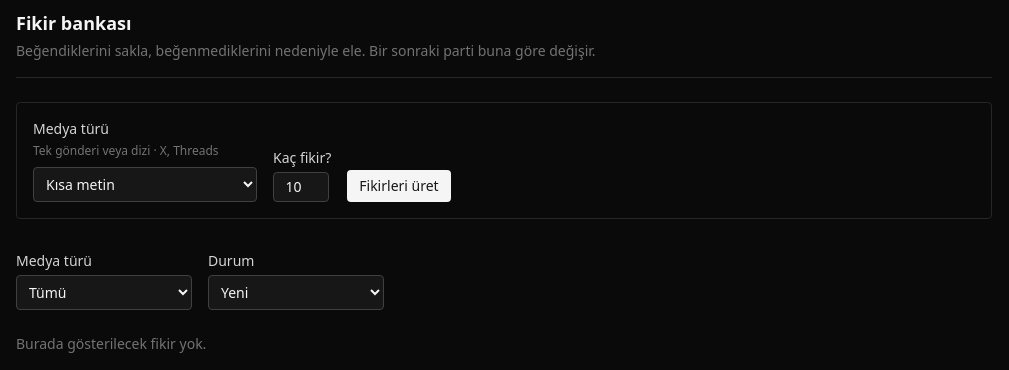
Scenario: loading states › shows a spinner while an idea batch is generating
Click the button "Fikirleri üret" at (399, 186), box [347,170,451,202]
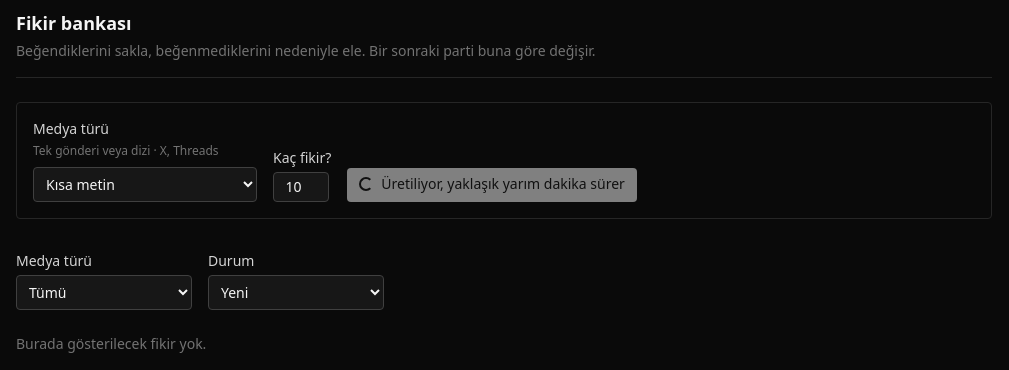
Check: the message is shown, box [359,177,373,191]
Check: the button "Üretiliyor, yaklaşık yarım dakika sürer" is disabled, box [347,168,637,202]
